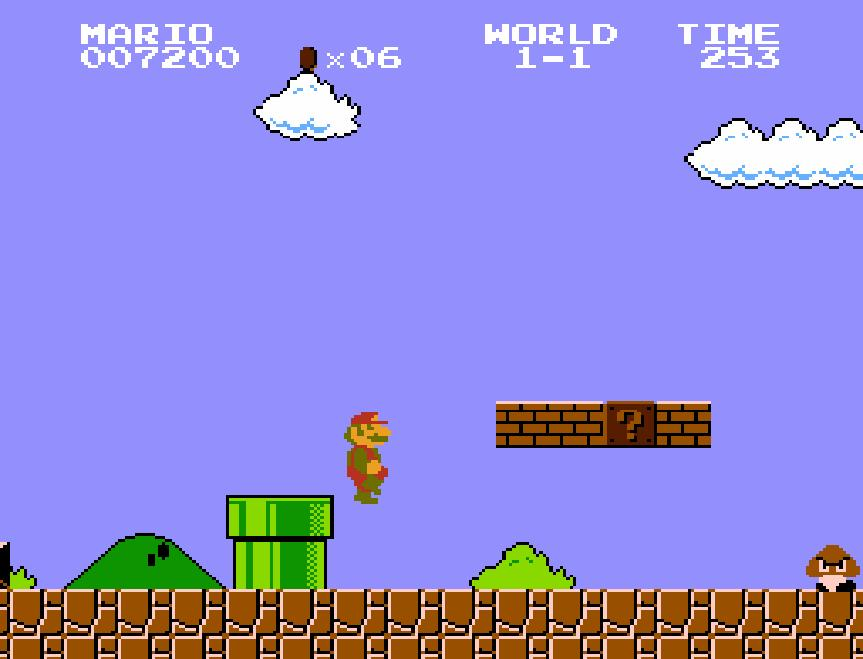big_mario: (338, 408, 396, 506)
